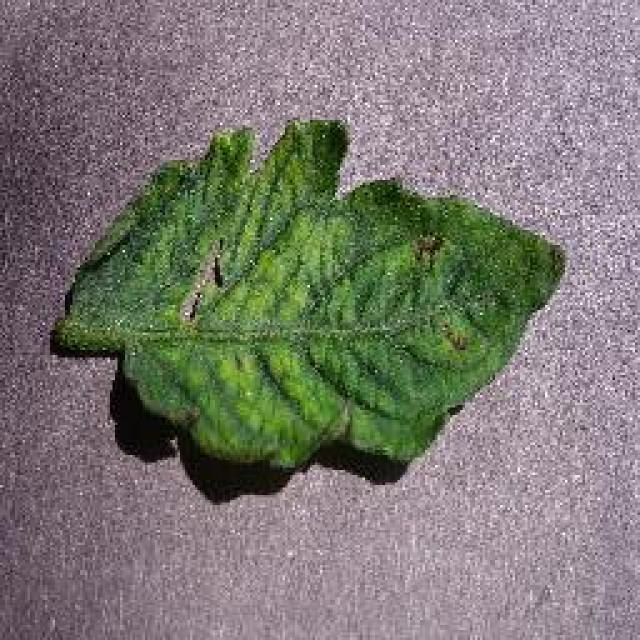Tomato spider mites leaf: (55, 114, 567, 476)
